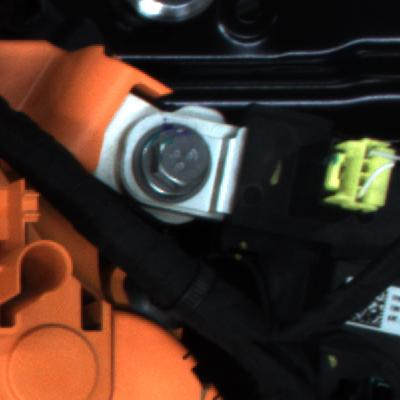nut_b: (126, 117, 222, 209)
